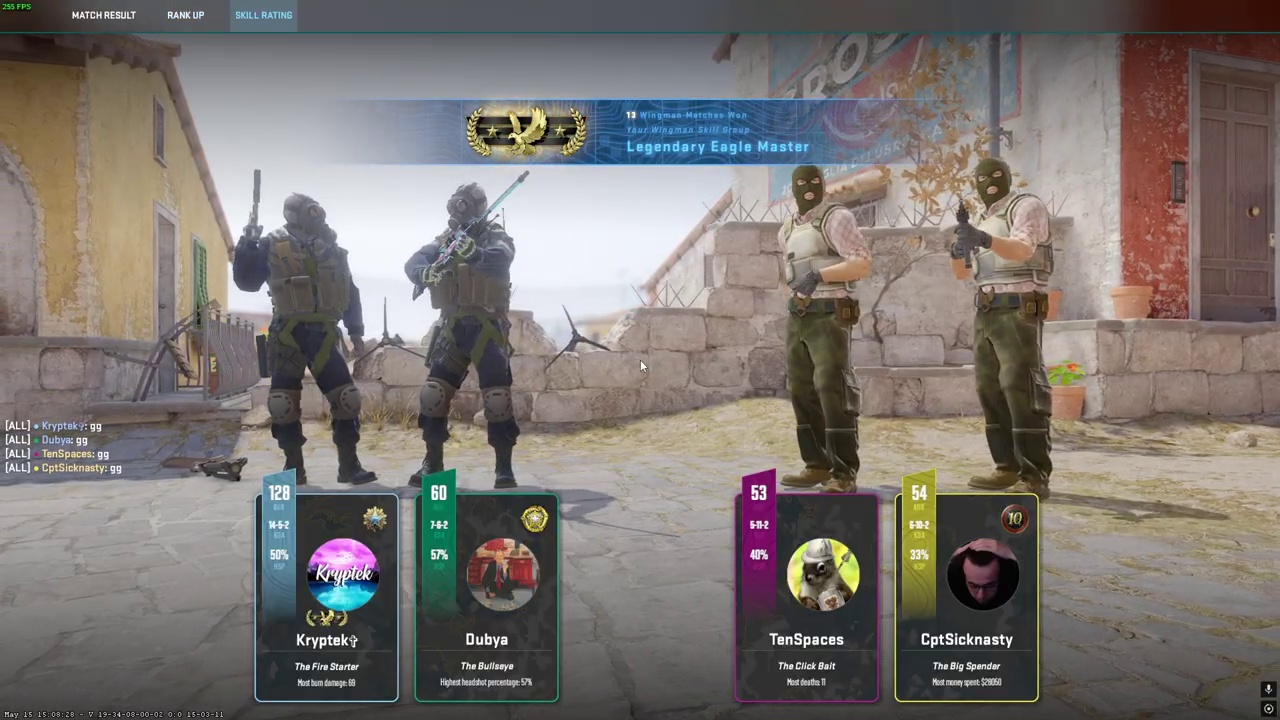CT: (414, 182, 521, 492), (253, 194, 365, 488)
Terrorist: (953, 156, 1054, 500), (777, 163, 873, 494)
